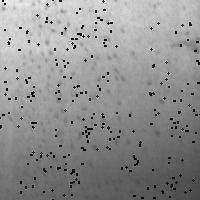pitted_surface: (16, 1, 134, 158), (55, 39, 115, 98), (55, 85, 113, 145), (81, 112, 139, 170), (149, 82, 200, 141), (150, 22, 200, 82), (20, 151, 78, 200), (54, 0, 110, 48), (0, 0, 52, 49), (133, 157, 192, 200), (0, 67, 34, 127)
